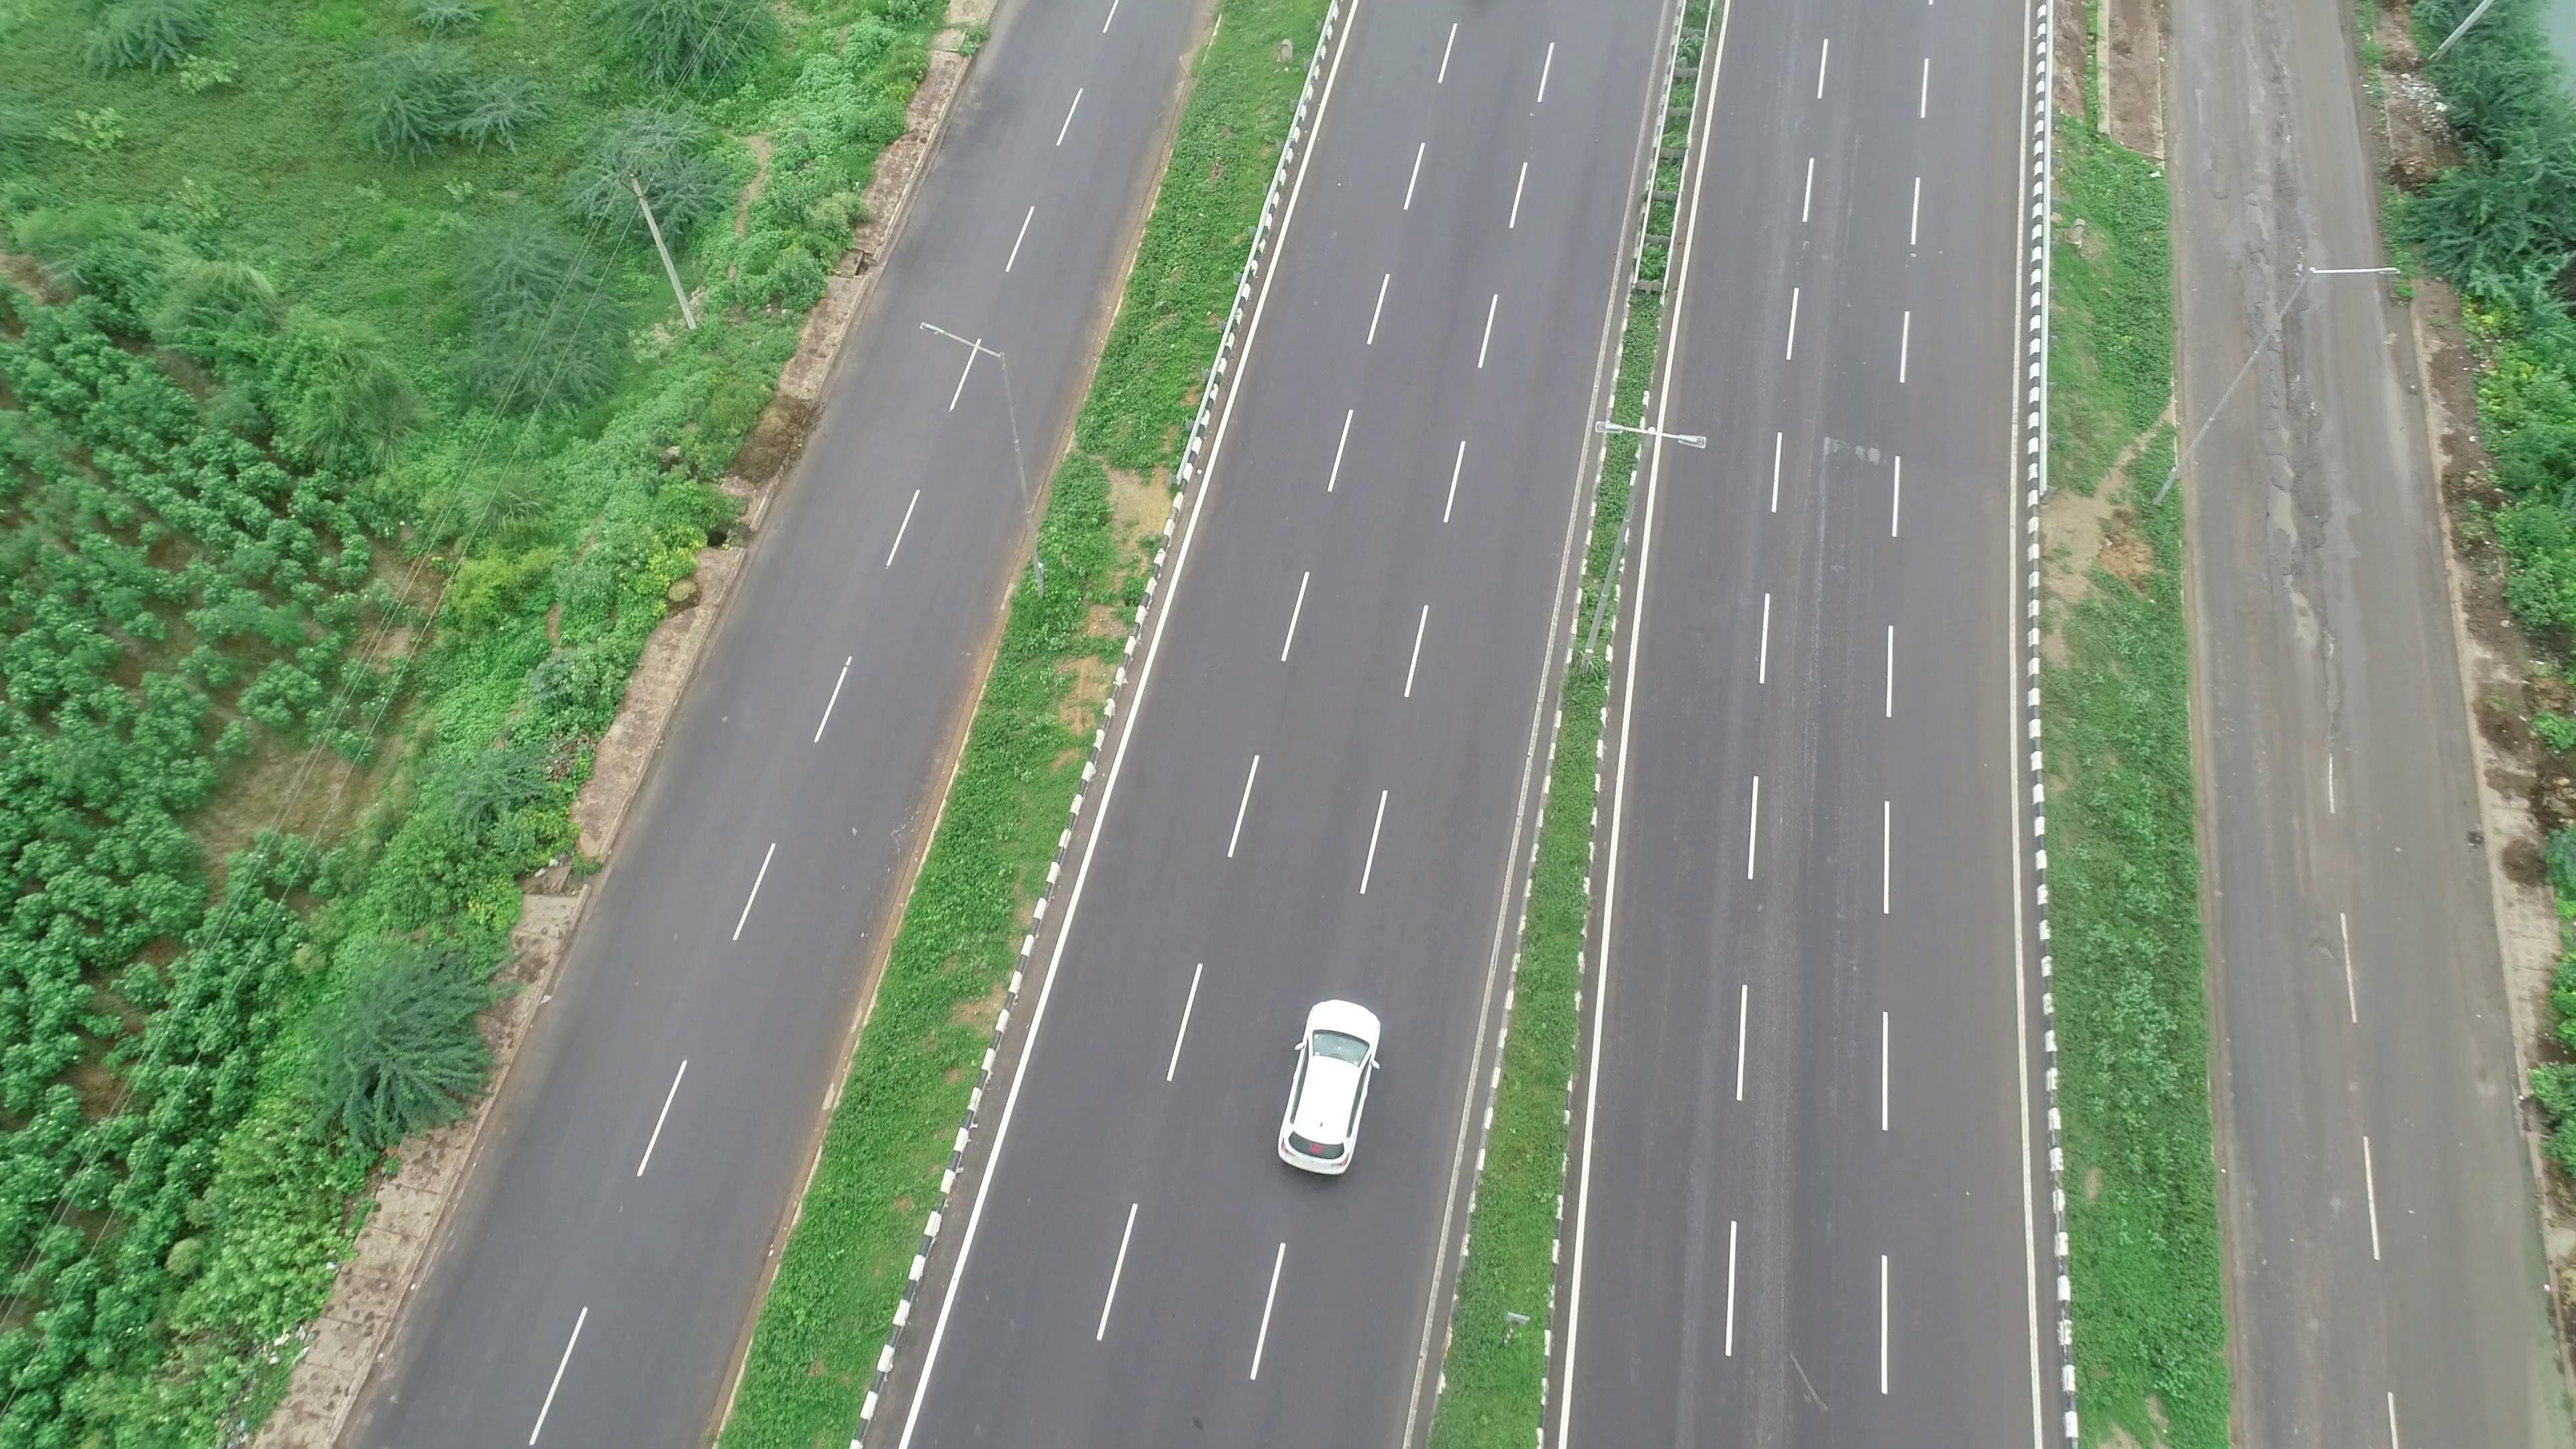Ravelling: (1787, 478, 1851, 828), (1819, 821, 1868, 1090)
